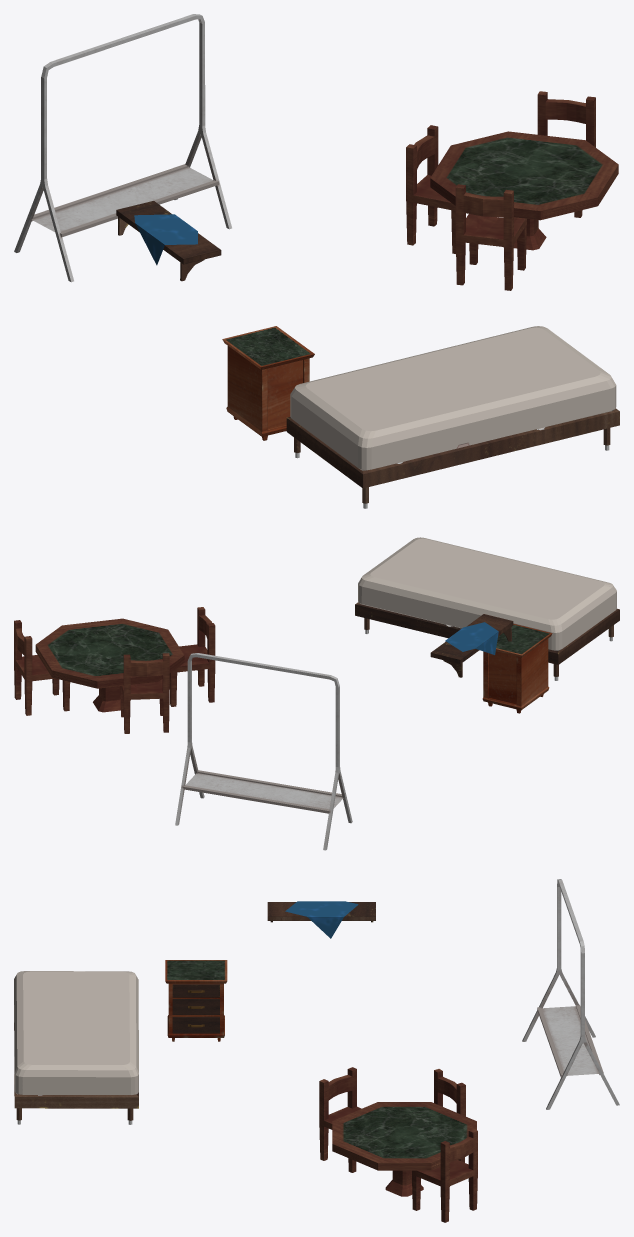
File: furniture.fbx
The picture shows the model from 3 angles, top to bottom: view 1: azimuth 30°, elevation 25°; view 2: azimuth 150°, elevation 25°; view 3: azimuth 270°, elevation 25°; orthographic projection. The views are drawn at different scales.
Parts seen in each view (by area): view 1: bed_base.001, TABLE.001, clothes rack.001, nightstand.001, chair.001, shelf.001, chair.003, chair.002; view 2: bed_base.001, TABLE.001, clothes rack.001, nightstand.001, chair.003, shelf.001, chair.002, chair.001; view 3: bed_base.001, TABLE.001, clothes rack.001, chair.002, nightstand.001, shelf.001, nightstand_drawers.001, chair.001, chair.003.
Part boxes in pixels (<box>): bed_base.001: <box>286,326,619,508</box>; TABLE.001: <box>430,131,618,250</box>; clothes rack.001: <box>14,14,231,282</box>; nightstand.001: <box>222,326,314,440</box>; chair.001: <box>455,184,526,290</box>; shelf.001: <box>116,201,221,281</box>; chair.003: <box>406,125,455,253</box>; chair.002: <box>537,91,595,217</box>; bed_base.001: <box>355,537,619,680</box>; TABLE.001: <box>35,618,184,712</box>; clothes rack.001: <box>175,653,352,850</box>; nightstand.001: <box>482,623,552,713</box>; chair.003: <box>120,653,169,733</box>; shelf.001: <box>430,614,513,677</box>; chair.002: <box>14,620,70,715</box>; chair.001: <box>169,607,215,706</box>; bed_base.001: <box>14,971,138,1124</box>; TABLE.001: <box>332,1102,476,1196</box>; clothes rack.001: <box>522,879,619,1109</box>; chair.002: <box>412,1129,477,1222</box>; nightstand.001: <box>165,960,227,1041</box>; shelf.001: <box>267,901,375,938</box>; nightstand_drawers.001: <box>172,984,219,1033</box>; chair.001: <box>319,1067,361,1172</box>; chair.003: <box>434,1069,465,1162</box>.
Size of the model in its own units: 435 by 160 by 540.
